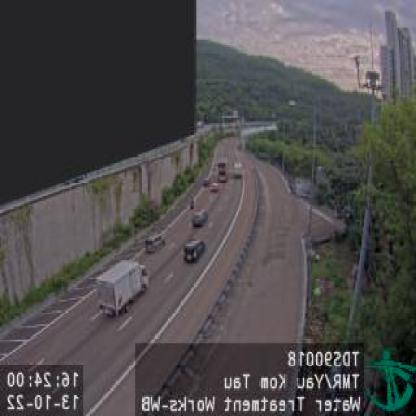Car: (183, 238, 206, 264), (142, 232, 164, 255), (192, 207, 207, 226), (210, 178, 221, 193)
Truck: (97, 256, 146, 318)
